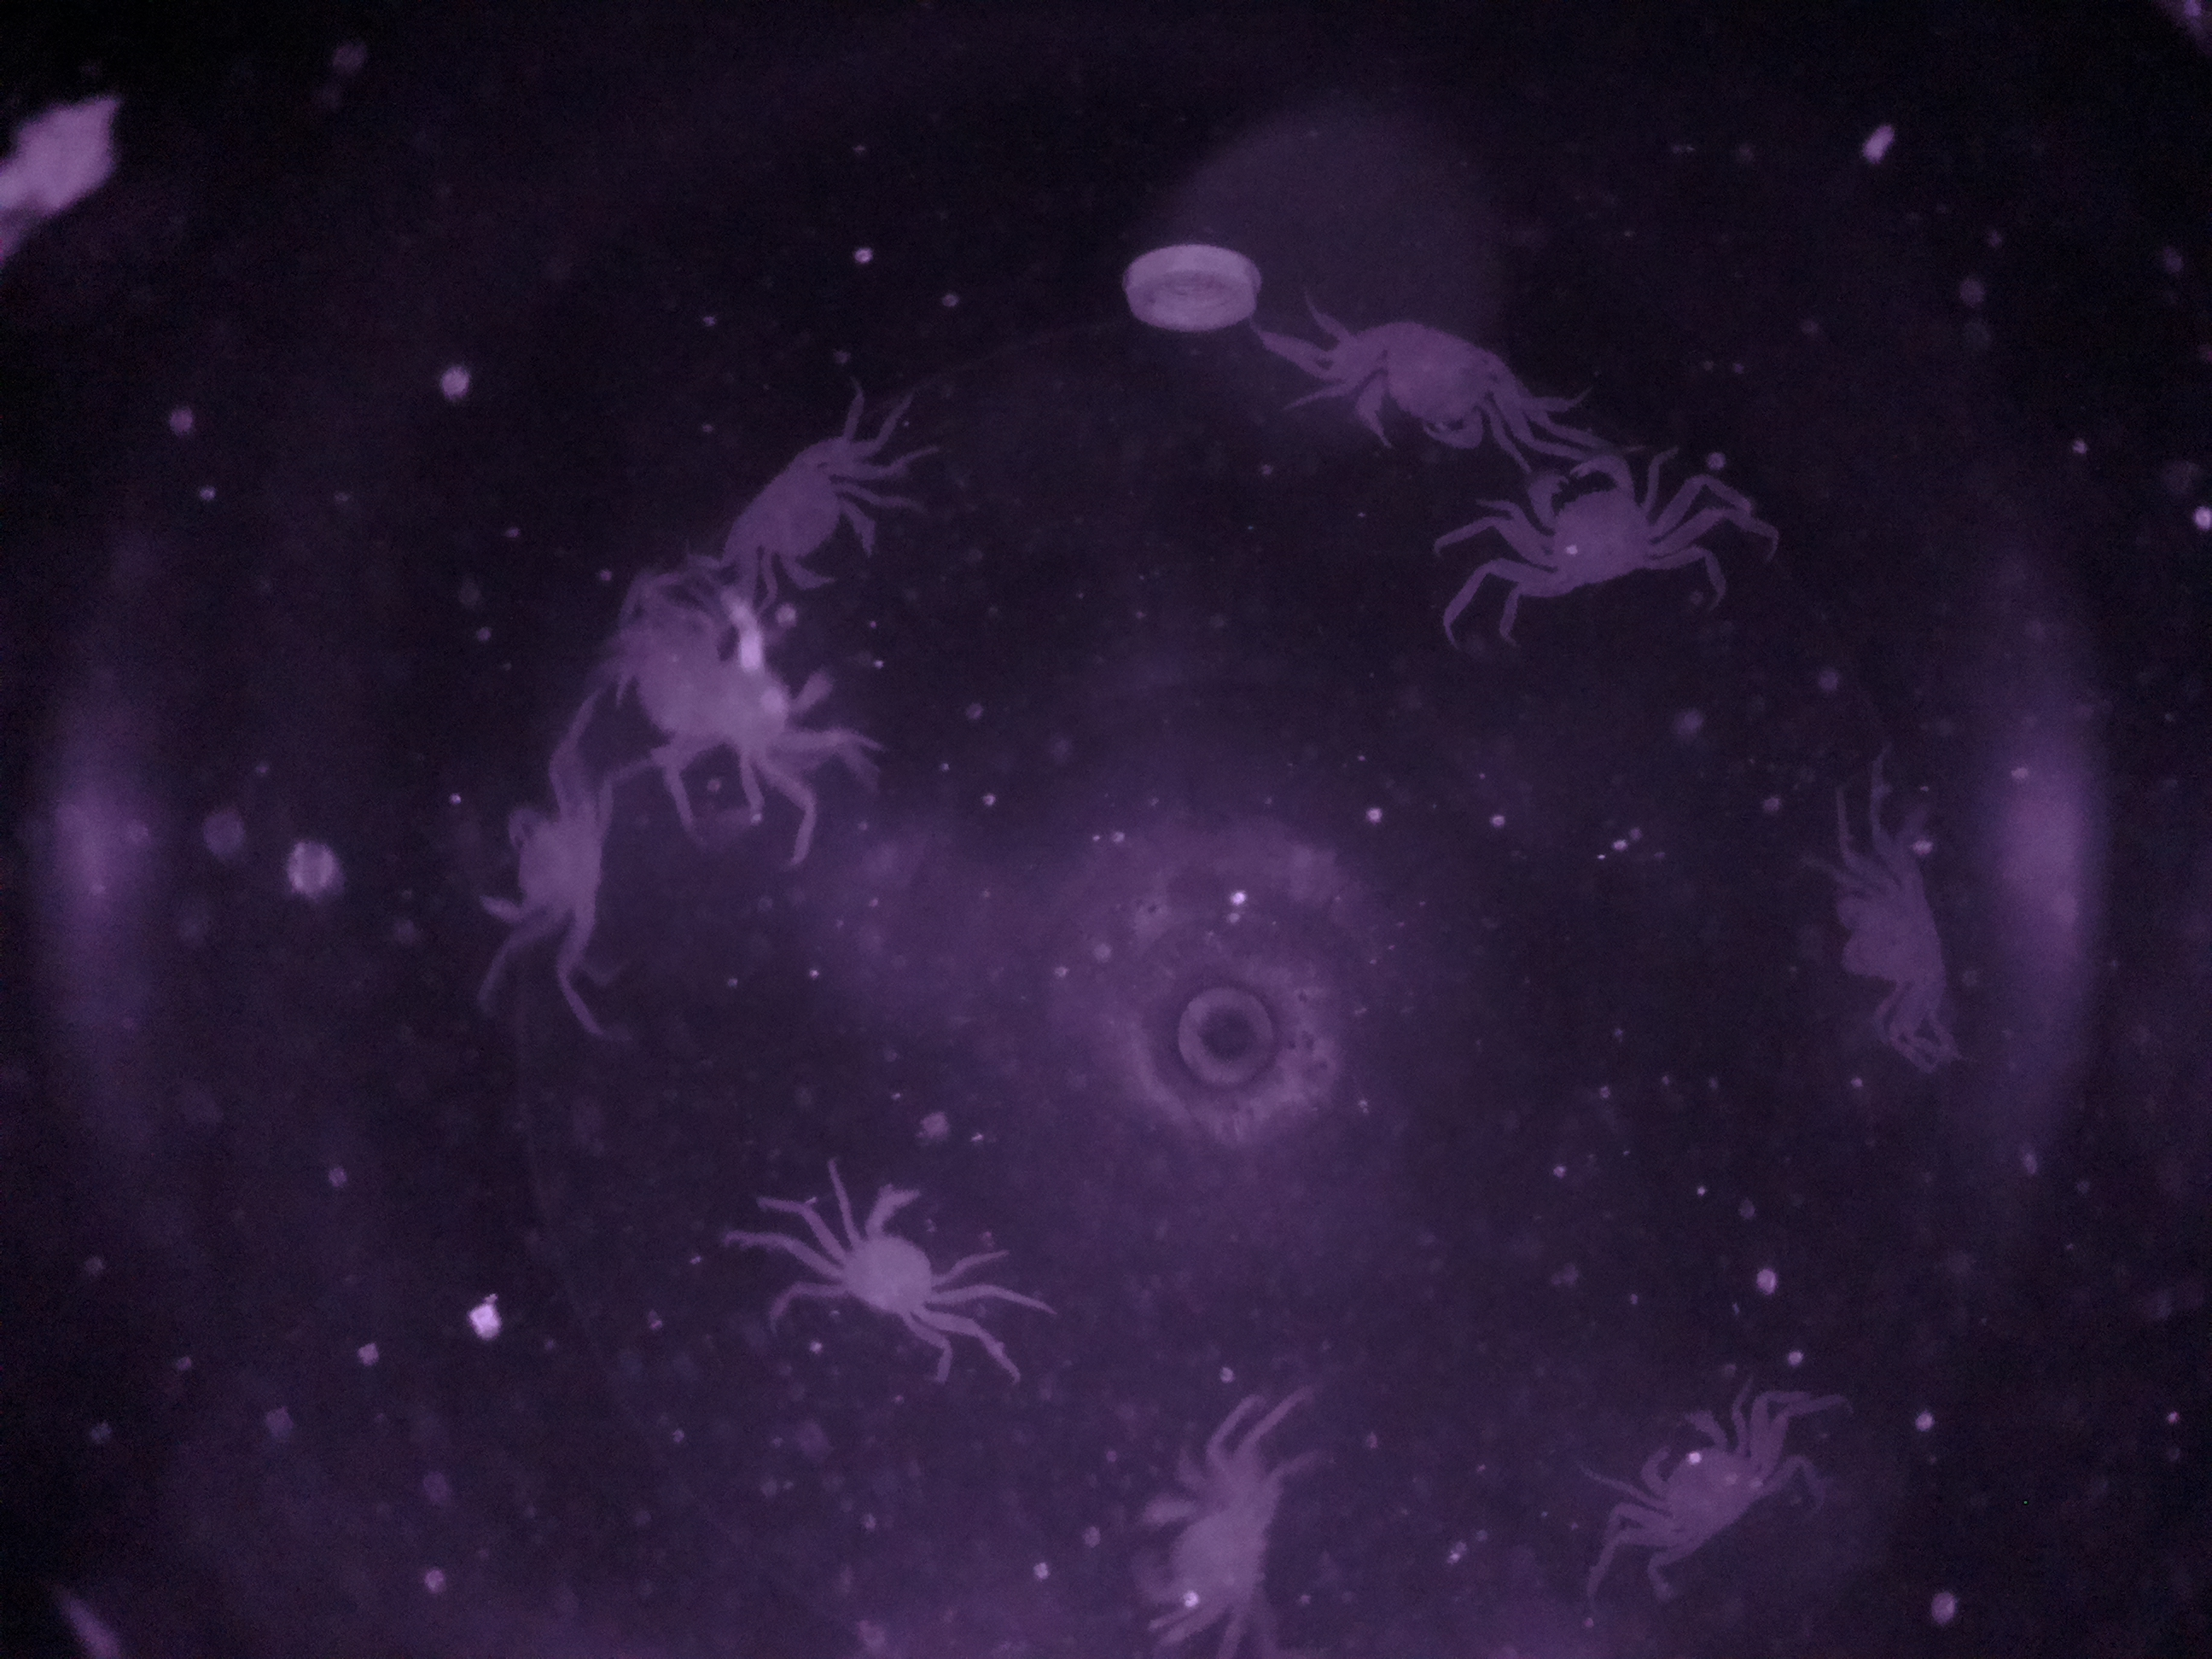Crab: (1480, 434, 1696, 613), (1594, 1394, 1789, 1582), (707, 416, 892, 613), (789, 1175, 1008, 1333), (1322, 308, 1536, 464)
